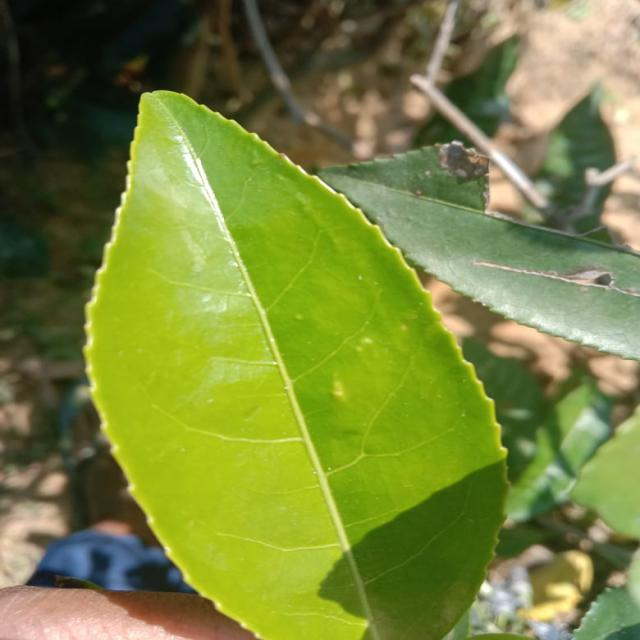Category B(2-4 days): (62, 74, 521, 640)
